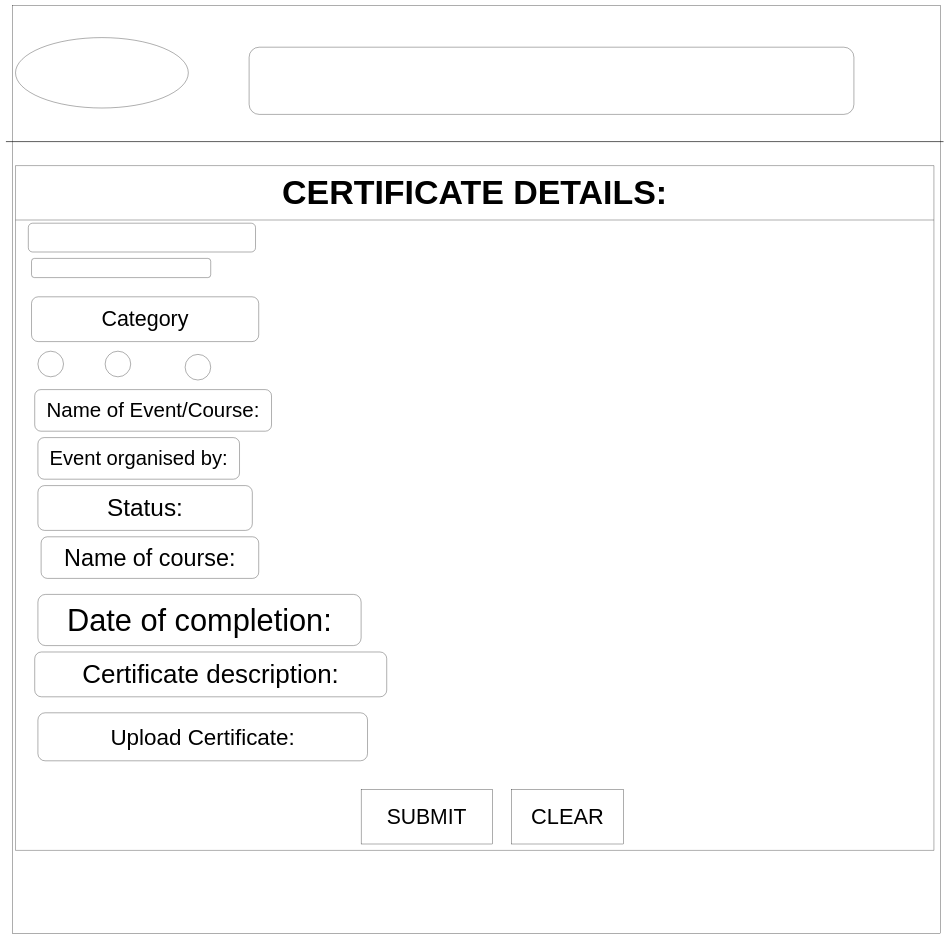
Image size: 949x939. Some labels were removed from this diagram. Each missing label, with the centre of its shape:
BACK TO STUDENT DASHBOARD: the point at 101,72
Certificate name:: the point at 142,237
CERTIFICATES: the point at 551,80
